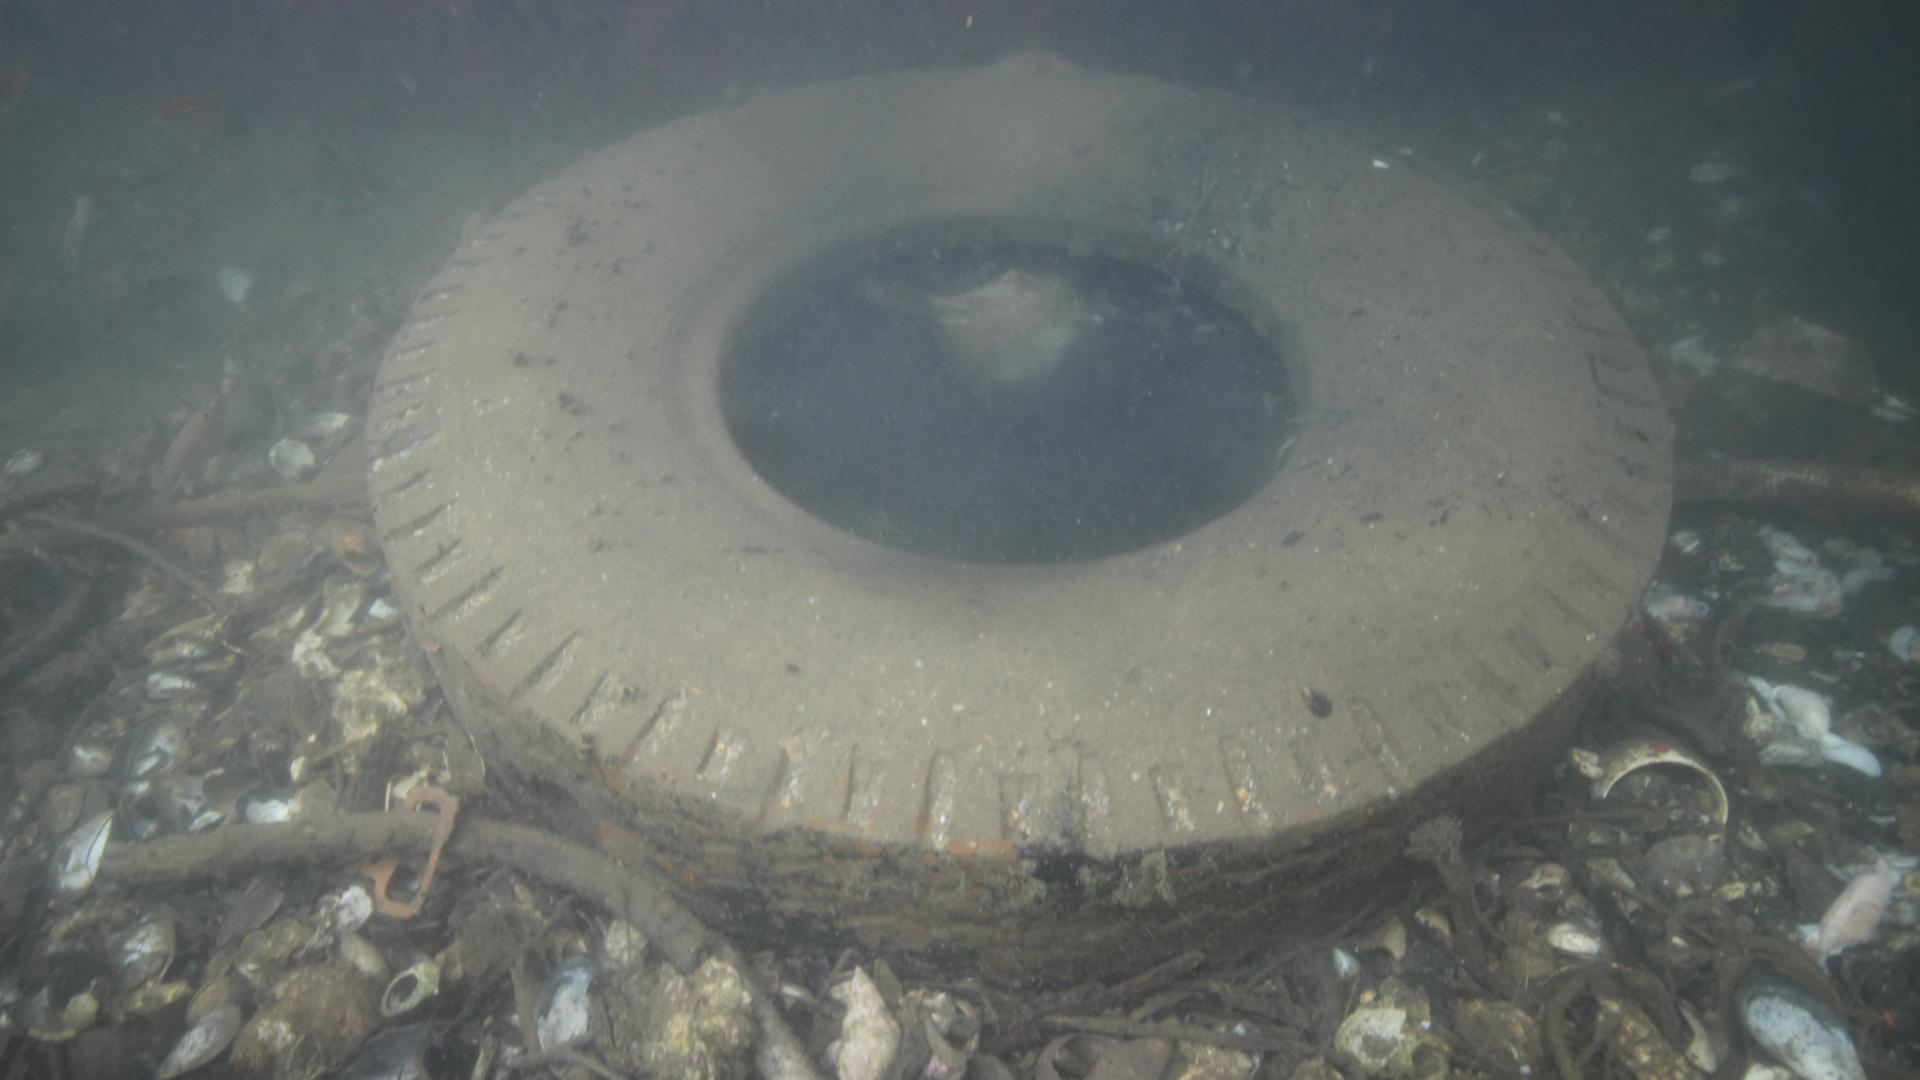tire: (360, 63, 1669, 1048)
